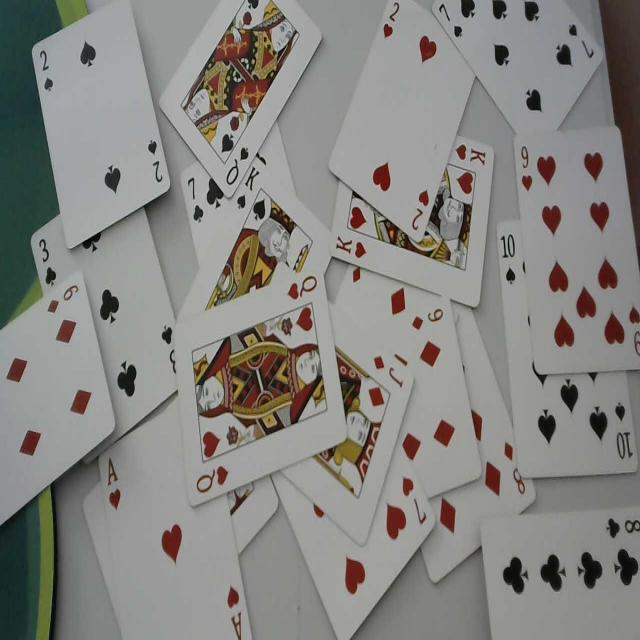10S: (612, 396, 634, 462), (499, 228, 517, 288)
2H: (381, 0, 405, 43), (410, 186, 428, 233)
2S: (146, 135, 164, 188), (38, 47, 54, 93)
3C: (38, 235, 58, 289)
6D: (48, 282, 80, 319)
7C: (185, 173, 205, 227)
7H: (398, 468, 428, 527)
7S: (566, 17, 598, 59), (437, 0, 466, 44)
8C: (603, 510, 640, 544)
8D: (503, 433, 525, 496)
9D: (410, 304, 444, 332)
9H: (518, 142, 534, 196), (625, 301, 640, 358)
AH: (104, 456, 125, 516), (225, 577, 245, 640)
JD: (371, 350, 405, 390)
KH: (454, 138, 488, 170), (334, 233, 370, 259)
KS: (236, 166, 262, 212)
QH: (196, 462, 230, 495), (286, 275, 318, 301)
QS: (225, 140, 250, 186)
